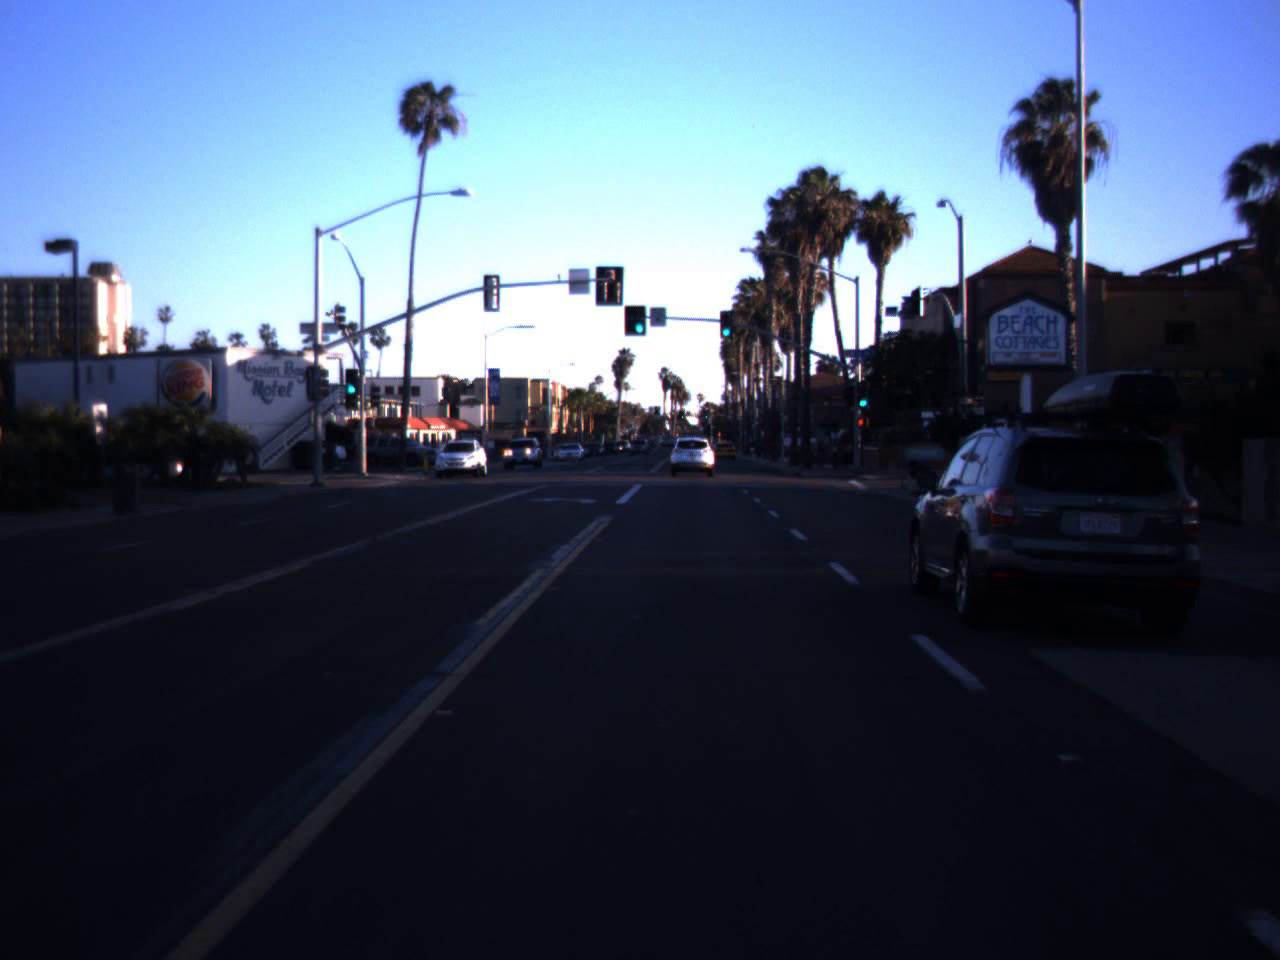go: (630, 301, 648, 335), (343, 365, 361, 395), (854, 383, 872, 408), (719, 309, 734, 339)
